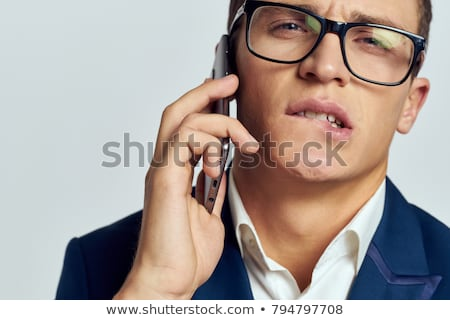phone: (199, 43, 242, 233)
talk: (146, 1, 423, 282)
